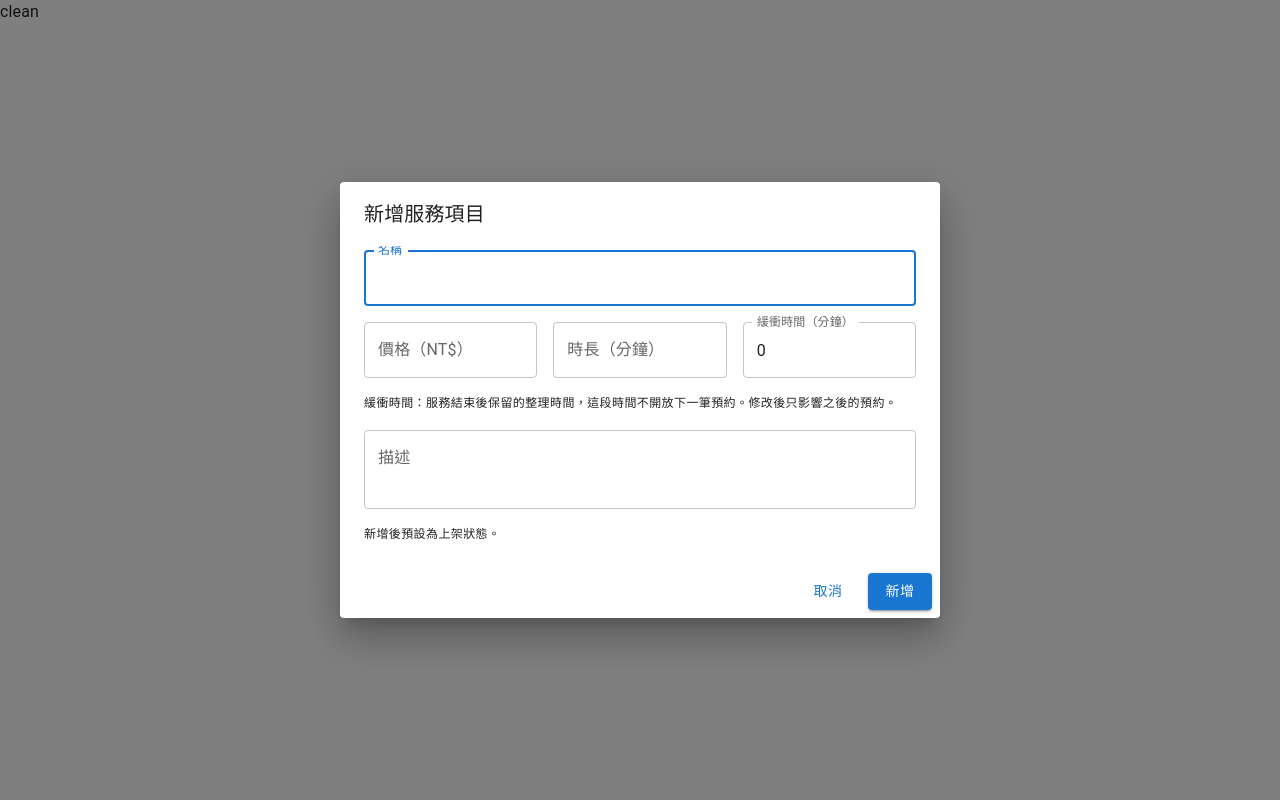
Test case: ServiceFormDialog 未儲存變更（TASK-083，key: service-form） › 關閉攔截 › 新增模式有變更按取消：同樣先提示
Type "新服務" into the field labelled "名稱".
click(640, 278); type("新服務")  # box [364,250,916,306]
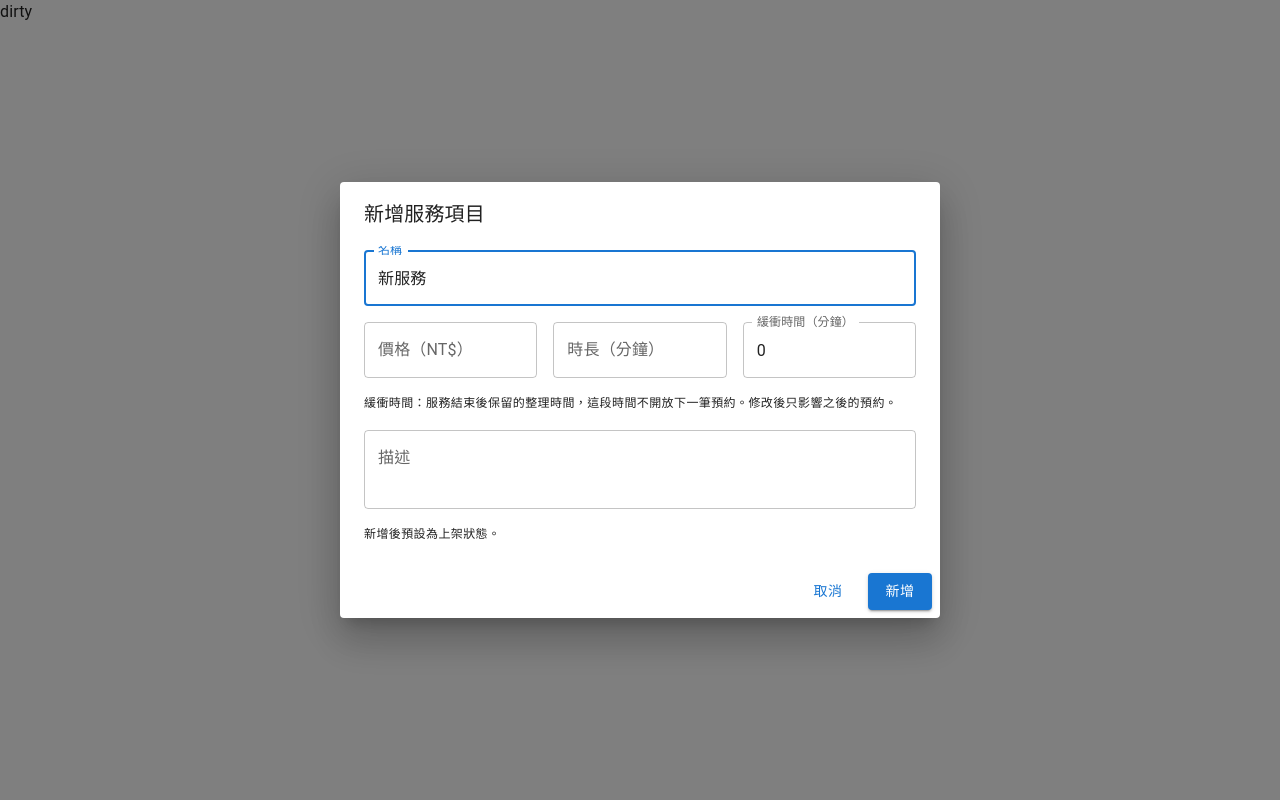
Click the button "取消".
click(828, 591)  # box [796,573,860,610]
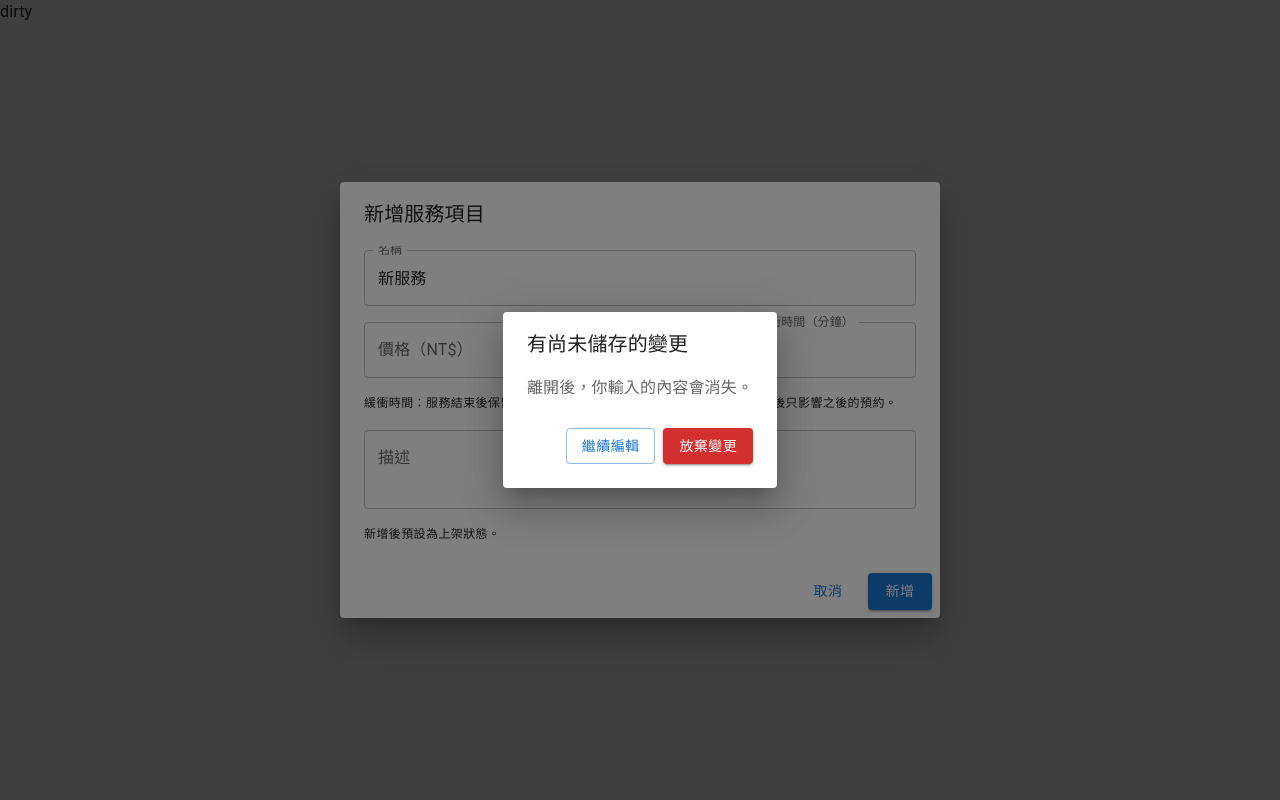
Check: the heading "有尚未儲存的變更" is shown, box [527,332,688,356]
